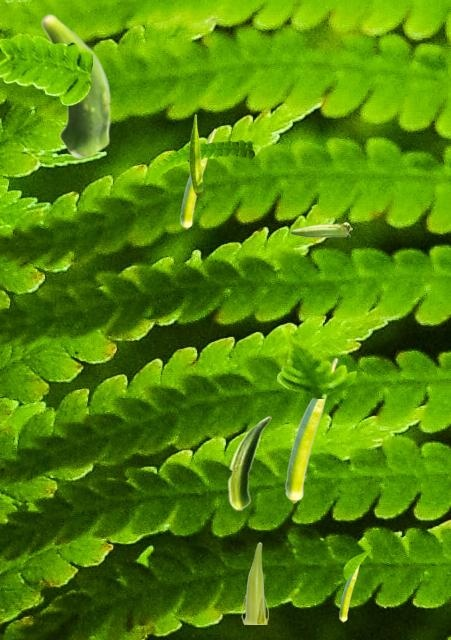okra: (40, 13, 111, 158), (285, 357, 337, 502), (227, 416, 270, 510), (180, 128, 215, 228), (241, 542, 267, 623), (339, 565, 360, 621), (189, 114, 202, 195), (290, 222, 351, 236)
